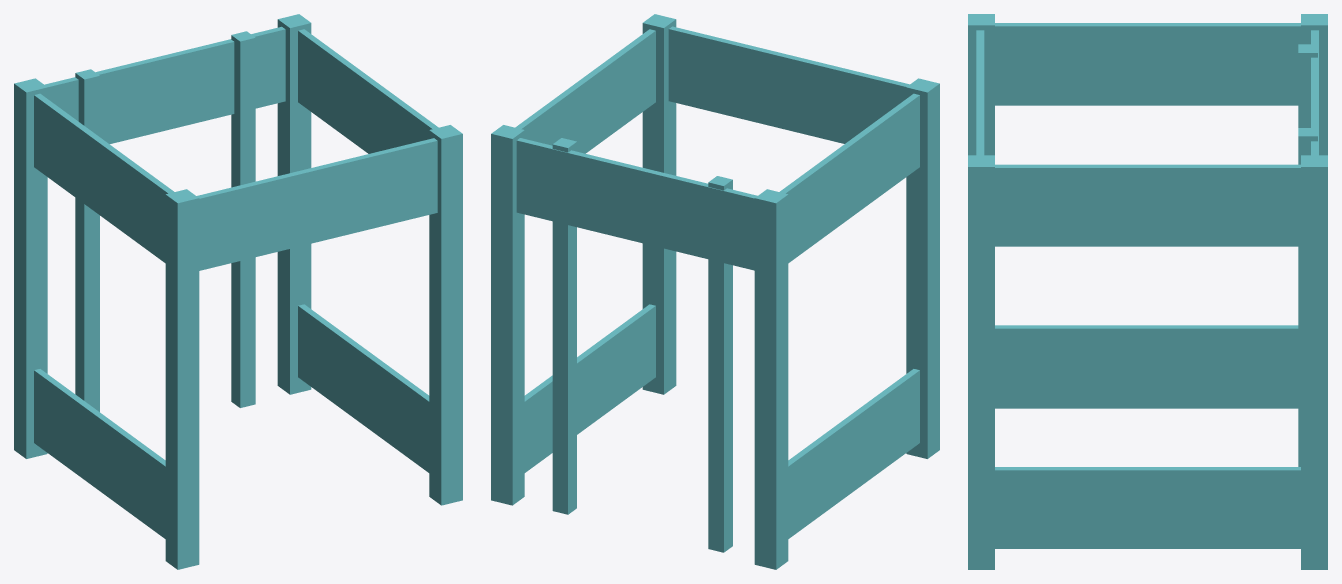
File: Elevator_Shaft_Mid_COL.fbx
The picture shows the model from 3 angles, left to right: view 1: azimuth 30°, elevation 25°; view 2: azimuth 150°, elevation 25°; view 3: azimuth 270°, elevation 25°; orthographic projection. The views are drawn at different scales.
Visible parts, largest first — view 1: Elevator_Shaft_Mid_COL; view 2: Elevator_Shaft_Mid_COL; view 3: Elevator_Shaft_Mid_COL.
Boxes of the visible parts, x1,y1,x2,y2 form: Elevator_Shaft_Mid_COL: (14, 14, 462, 569); Elevator_Shaft_Mid_COL: (491, 14, 939, 569); Elevator_Shaft_Mid_COL: (968, 14, 1327, 569).
Size of the model in its own units: 366 by 450 by 364.
